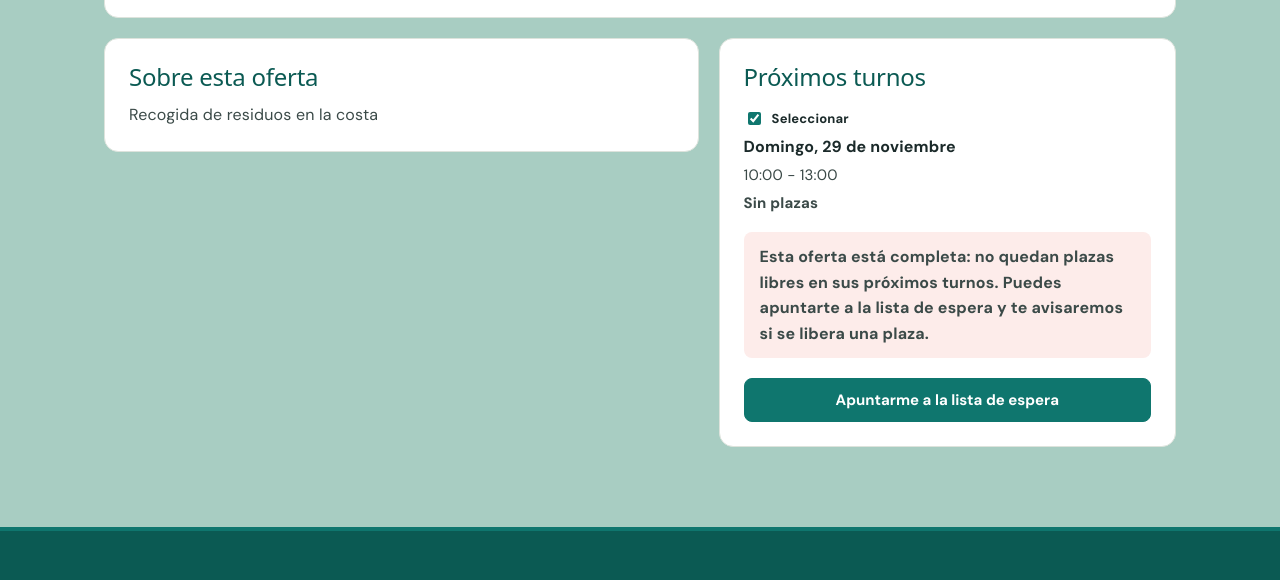
it: OfertaDetalle › en una oferta completa ofrece la lista de espera y la pide al servidor
(page scrolled)
Expected: the text "Esta oferta está completa" is shown, [760, 246, 1114, 292]
Click the button "Apuntarme a la lista de espera". click: click(947, 400)
box: [744, 378, 1151, 422]
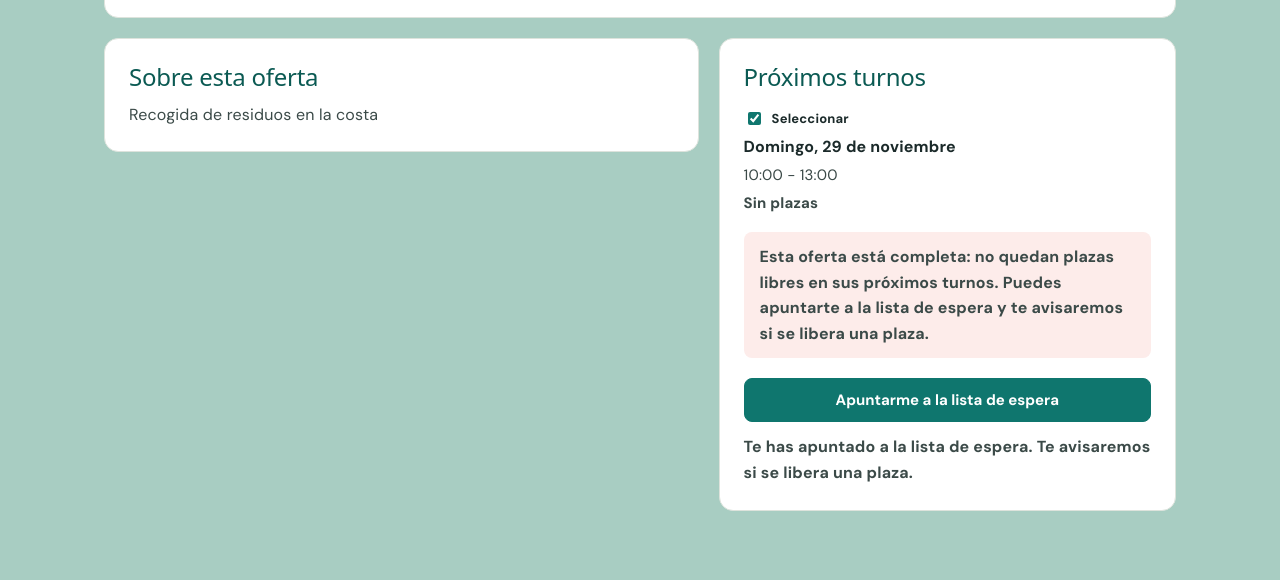
Now the text "Te has apuntado a la lista de espera. Te avisaremos si se libera una plaza." is shown, box [744, 434, 1151, 486]
